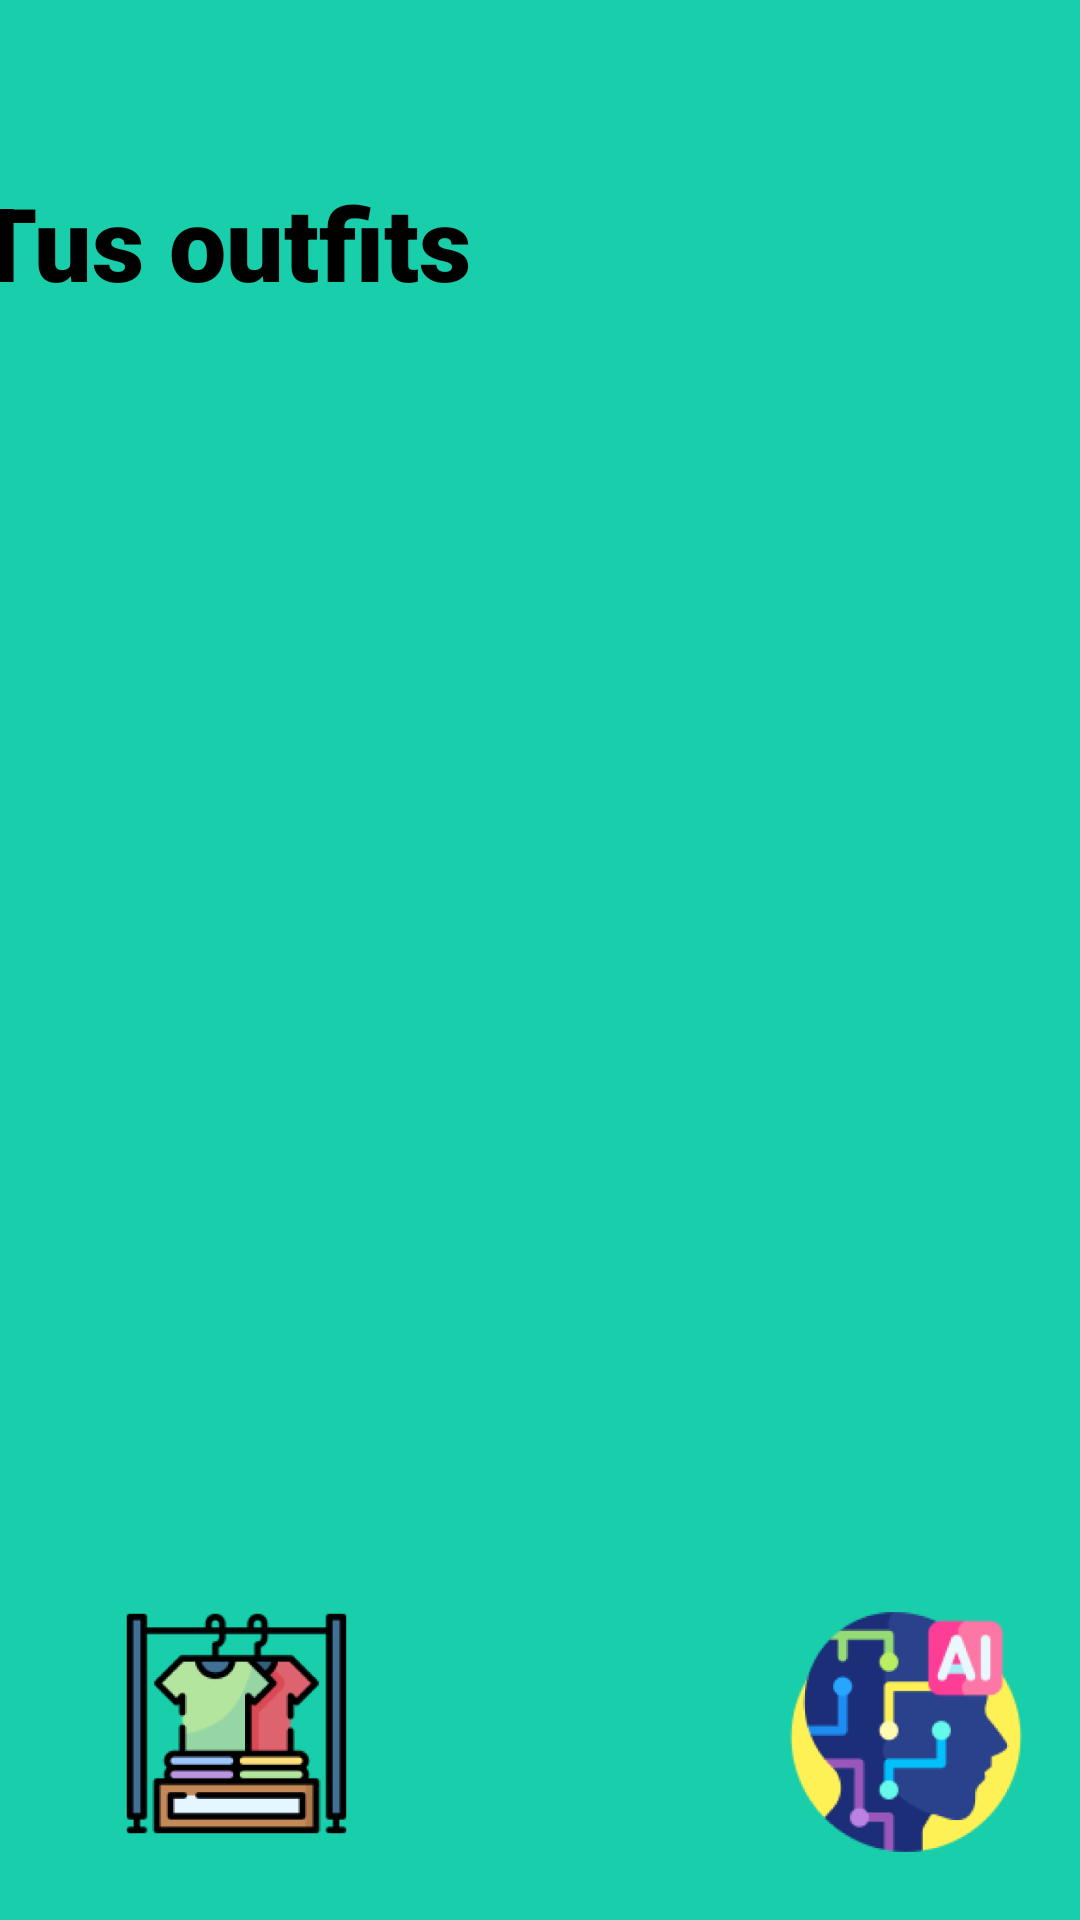

Named icons in this screenshot (1080 × 1920) and their centers, point (x, y):
ia home: point (906, 1732)
tus prendas home: point (236, 1723)
